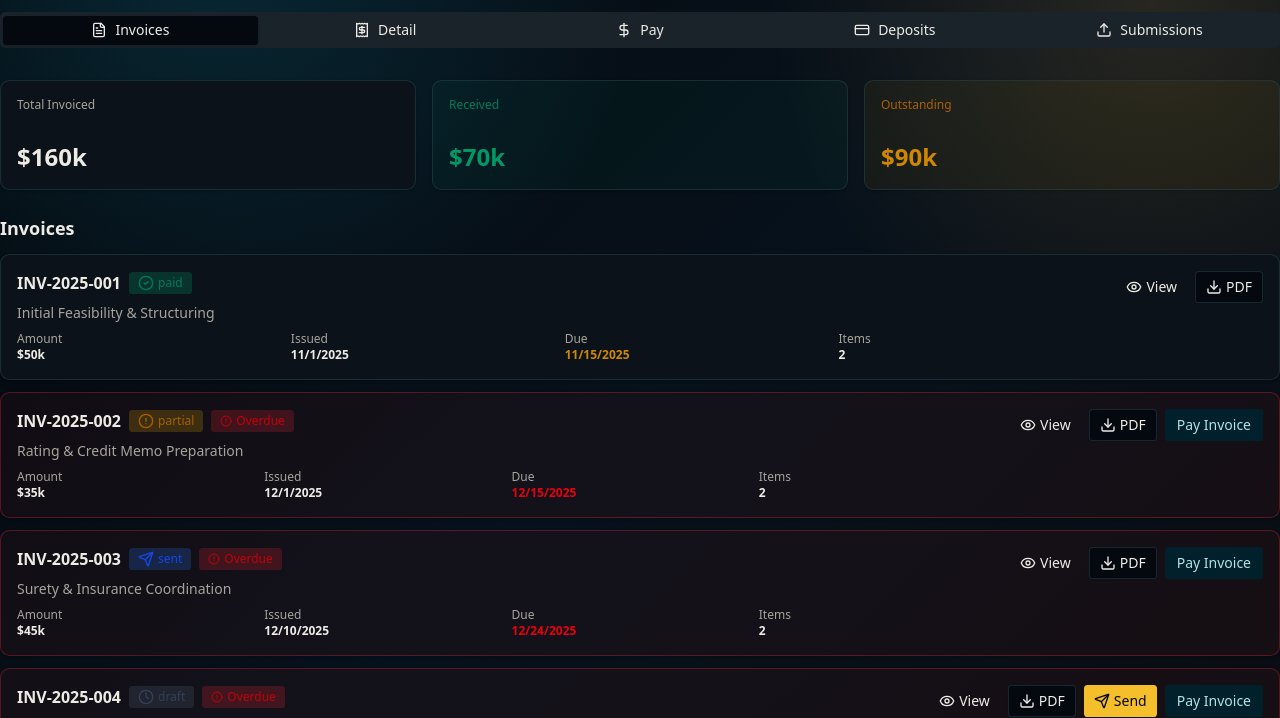
Test: functional demo modules › lets Client Deposit rows open invoice detail and prefill the payment workflow
The image size is (1280, 718).
Press the mouse on the button "View" in the row of "partial" at (1045, 425), box [1010,409,1081,441]
Click the button "View" in the row of "partial" at (1045, 425), box [1010,409,1081,441]
(page scrolled)
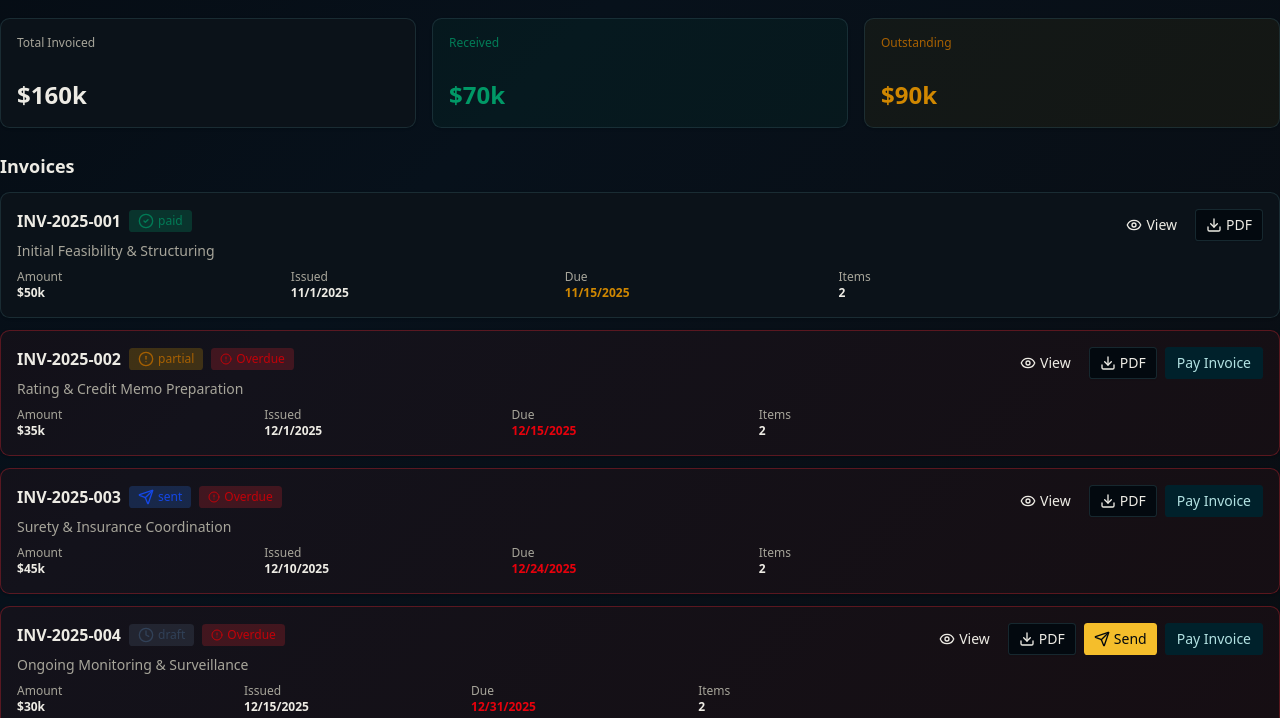
Press the mouse on the 1st button "Pay Invoice" at (1214, 363), box [1165,347,1263,379]
Click the 1st button "Pay Invoice" at (1214, 363), box [1165,347,1263,379]
(page scrolled)
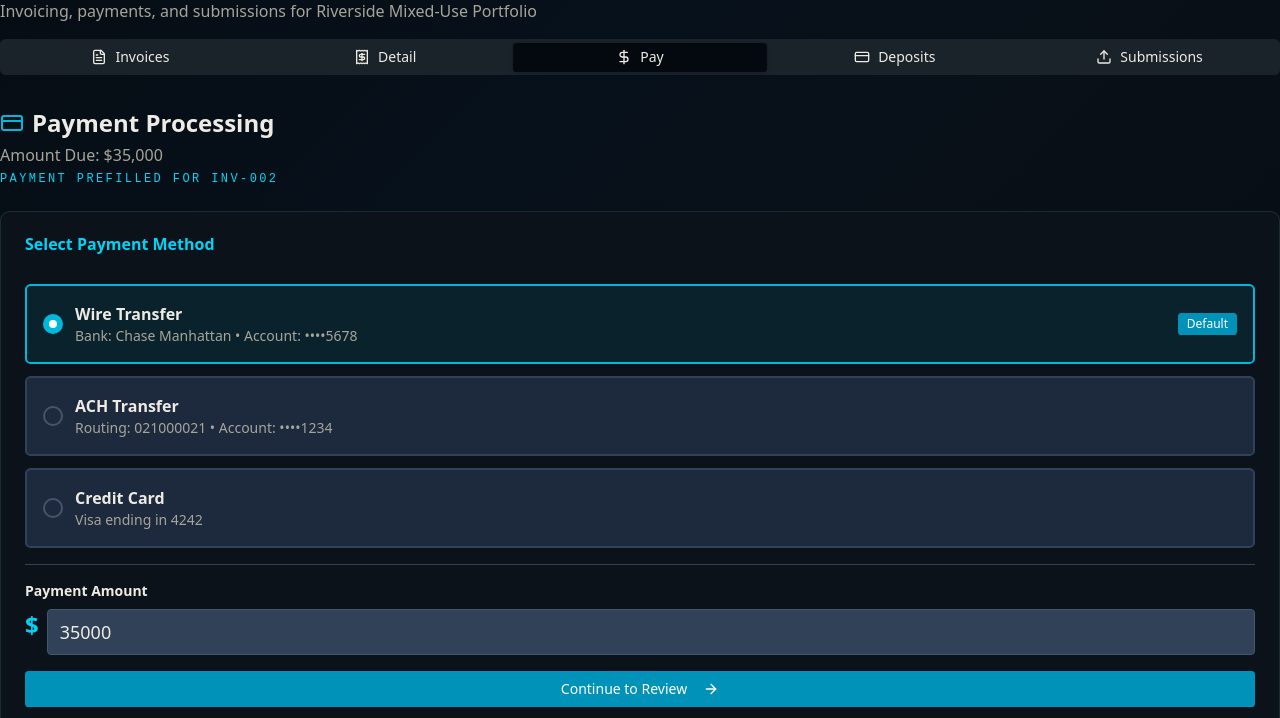
Check: the text "Payment prefilled for inv-002" is shown, box [0,172,278,186]
Check: the text "Amount Due: $35,000" is shown, box [0,144,163,166]
Press the mouse on the button "Continue to Review" at (640, 689), box [25,671,1255,707]
Click the button "Continue to Review" at (640, 689), box [25,671,1255,707]
(page scrolled)
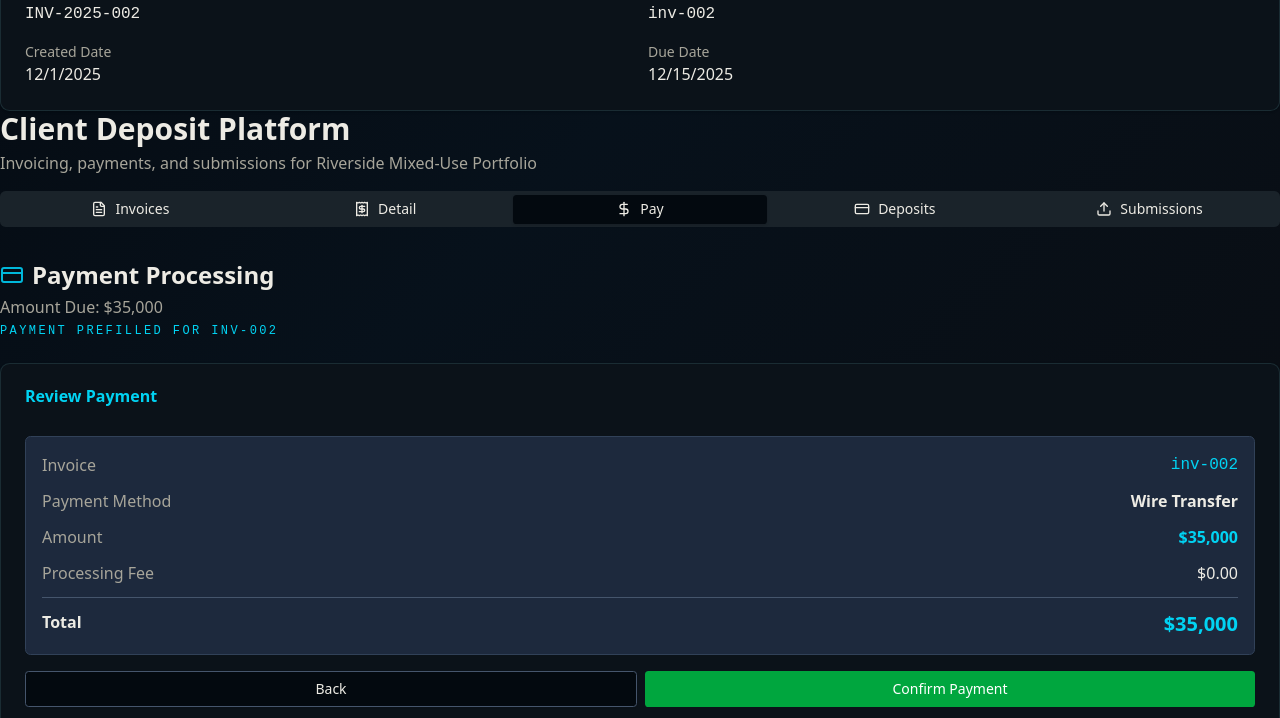
Check: the text "inv-002" is shown, box [648,5,715,23]
Check: the text "$35,000" is shown, box [0,296,163,318]
Check: the text "Review Payment" is shown, box [25,385,157,407]
